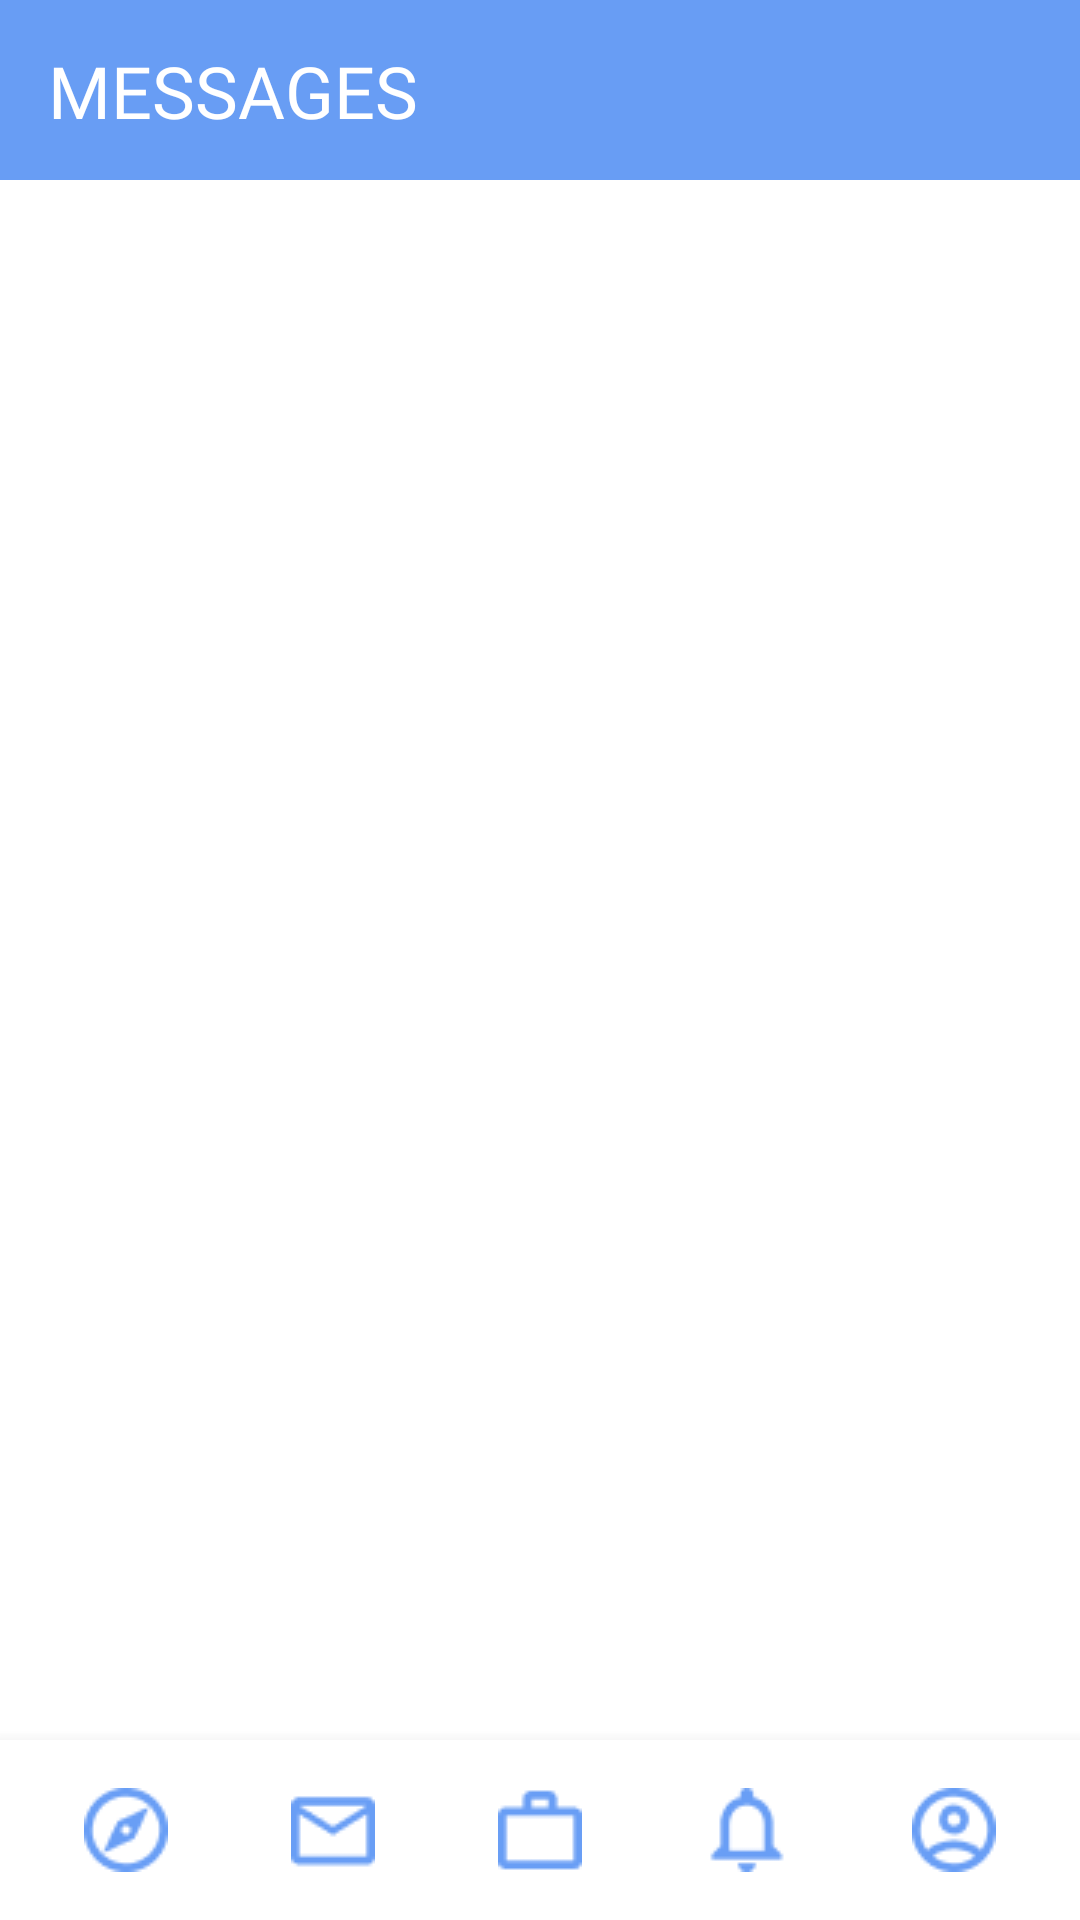

Screen size 1080 x 1920. Icon name, then its center in pixels as (x,y):
account circle: (954,1830)
explore: (126,1830)
mail: (333,1831)
notifications none: (747,1830)
work: (540,1830)
